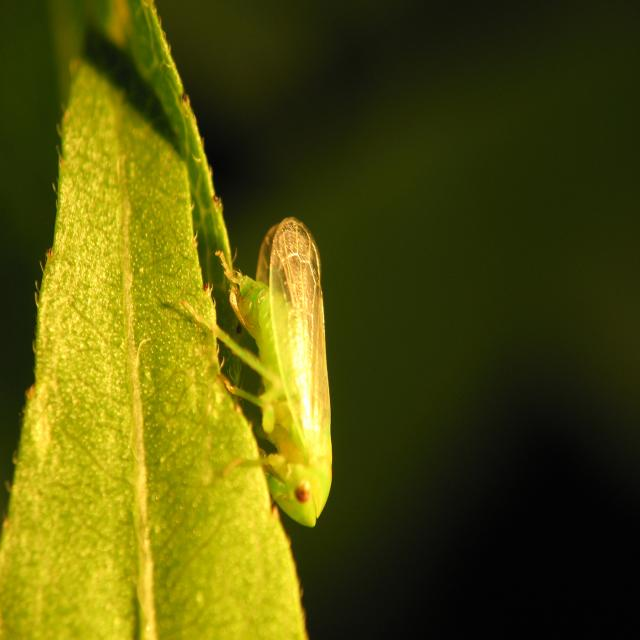Yechan: (203, 201, 372, 553)
